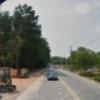cars: (46, 70, 58, 82)
